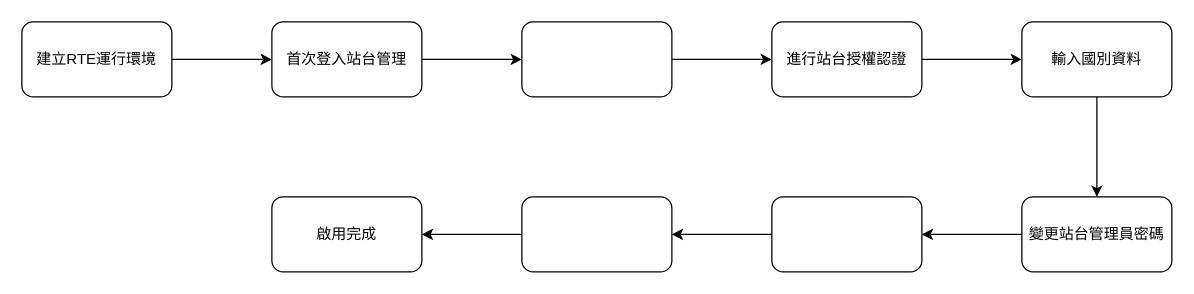
Some shapes in this 1194 by 294 pixel diagram are drawn without their labels. Each missing label, with the centre of its shape:
站台管理員資料變更: (x=846, y=234)
設定服務中間台: (x=596, y=234)
開啟站台啟用畫面: (x=596, y=59)
